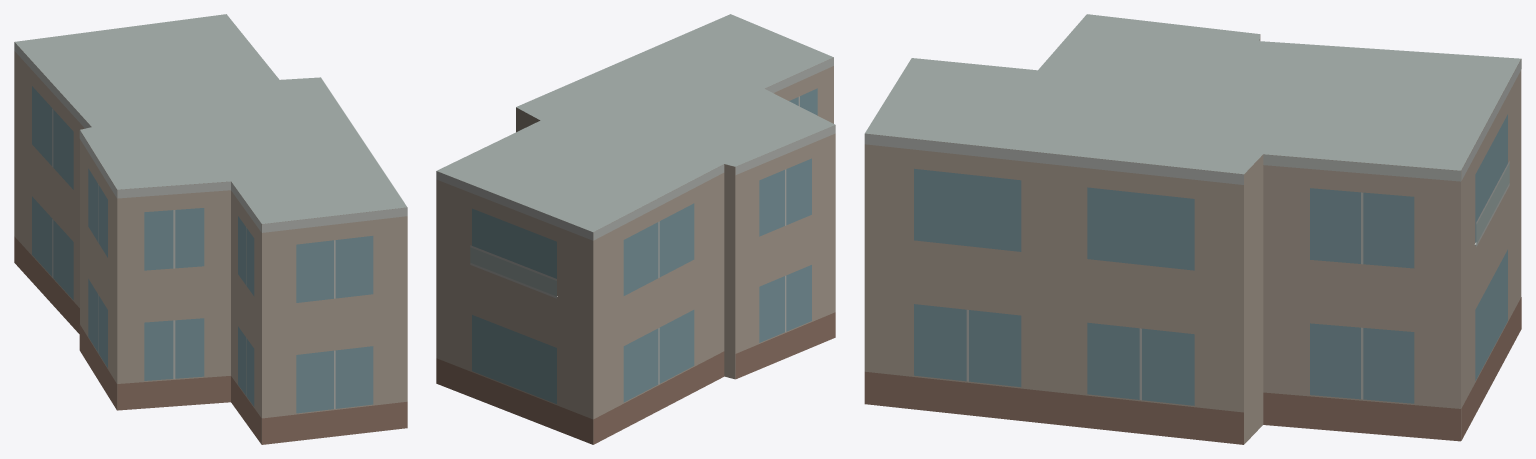
Rendered from survey-upis-32677789.glb.
3 renders of one model, left to right at view 1: azimuth 30°, elevation 25°; view 2: azimuth 150°, elevation 25°; view 3: azimuth 270°, elevation 25°, orthographic. The views are drawn at different scales.
Parts seen in each view (by area): view 1: survey-upis-32677789.tmp; view 2: survey-upis-32677789.tmp; view 3: survey-upis-32677789.tmp.
Part boxes in pixels (left/top/right/bottom): survey-upis-32677789.tmp: left=14, top=14, right=407, bottom=444; survey-upis-32677789.tmp: left=436, top=14, right=835, bottom=444; survey-upis-32677789.tmp: left=864, top=14, right=1521, bottom=444.
Size of the model in its own units: 7.76 by 6.1 by 13.43.
